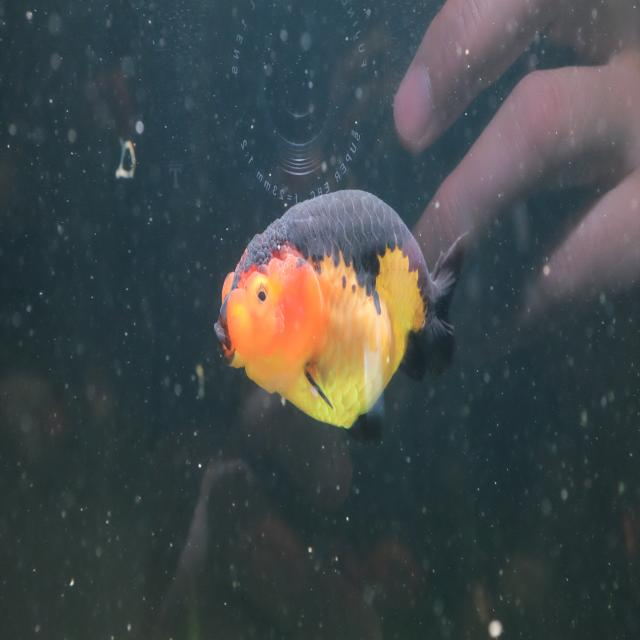Tilapia: (213, 187, 469, 446)
